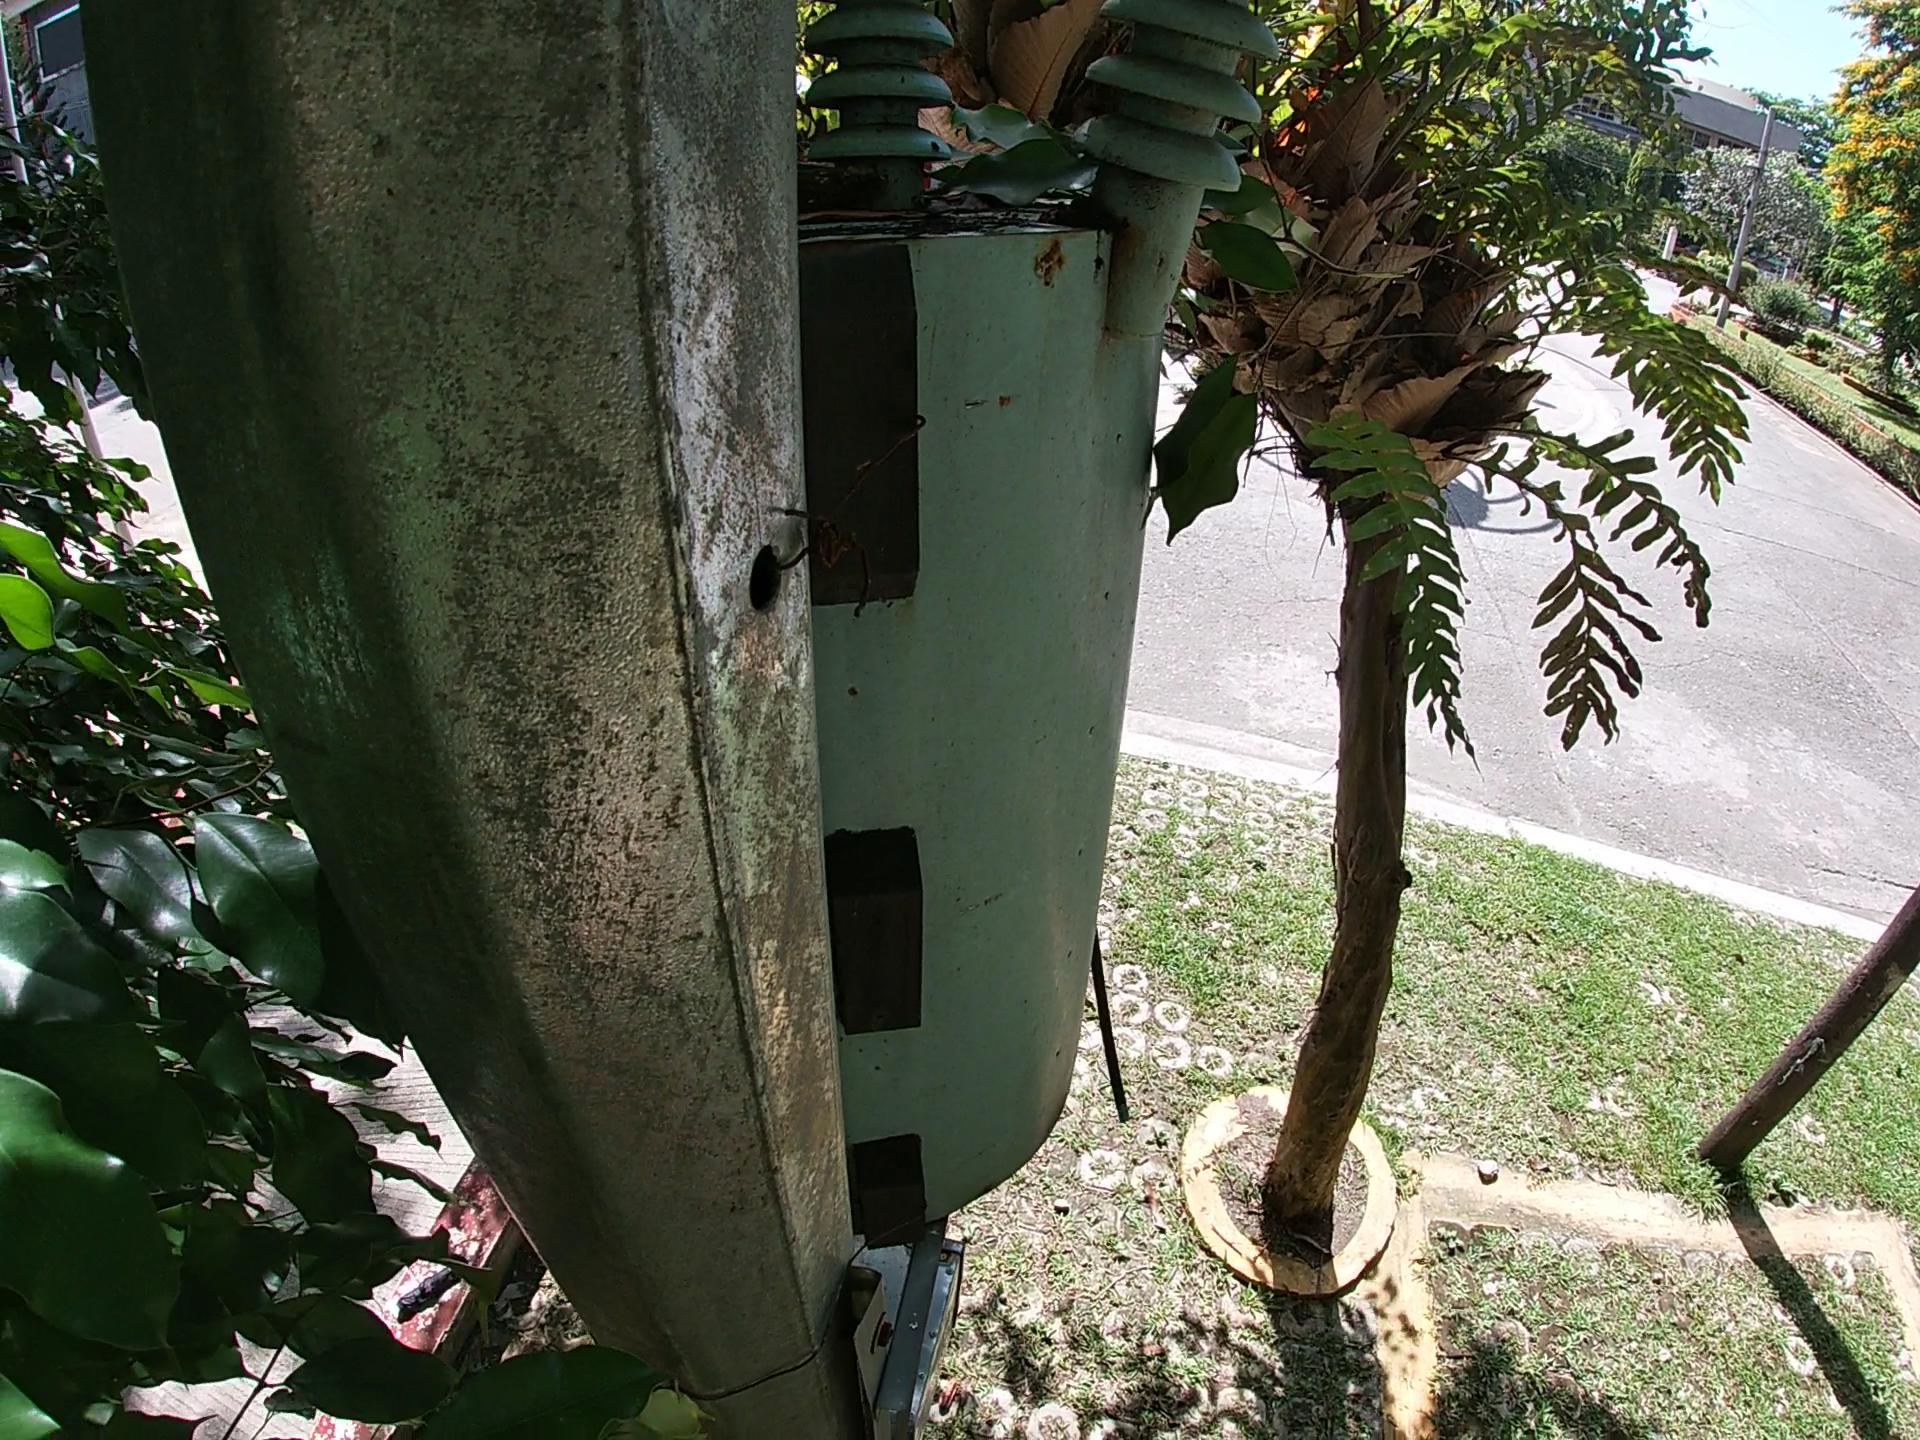branch with leaves: (1154, 104, 1364, 558)
leaf: (942, 88, 1084, 225), (797, 197, 927, 230)
tree branch: (782, 157, 913, 192)
